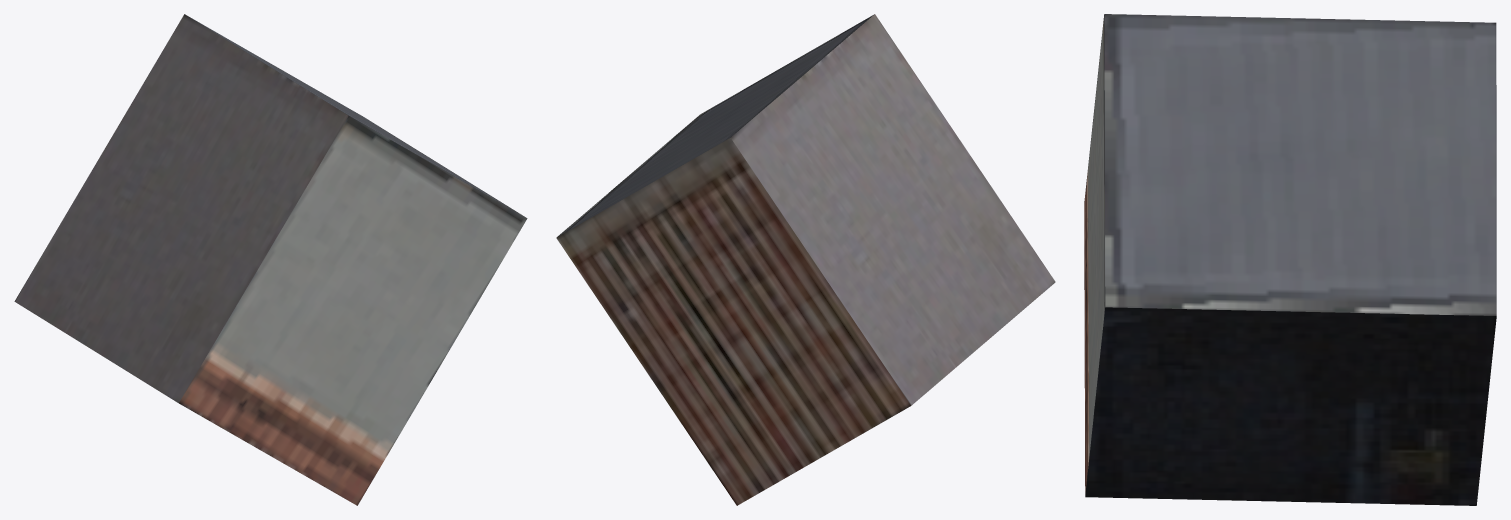
3 renders of one model, left to right at view 1: azimuth 30°, elevation 25°; view 2: azimuth 150°, elevation 25°; view 3: azimuth 270°, elevation 25°, orthographic. The views are drawn at different scales.
Visible parts, largest first — view 1: BAG_0599100100019950 (×2); view 2: BAG_0599100100019950 (×2); view 3: BAG_0599100100019950 (×2).
Boxes of the visible parts, <box> form: BAG_0599100100019950 (×2): <box>14,14,527,505</box>; BAG_0599100100019950 (×2): <box>556,14,1055,505</box>; BAG_0599100100019950 (×2): <box>1084,14,1496,505</box>.
Size of the model in its own units: 3.37 by 3.49 by 2.63.
2 materials, 2 textured.
